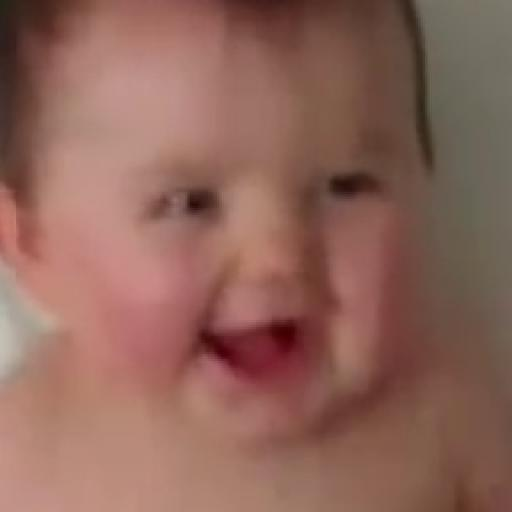Autism: (30, 13, 468, 482)
